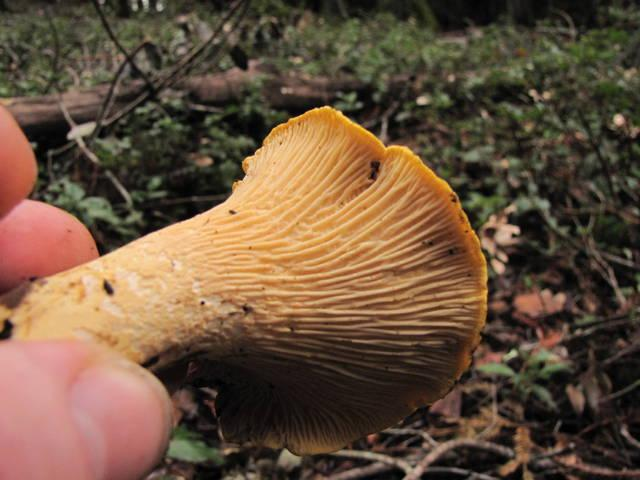edible_mushroom: (0, 103, 489, 456)
